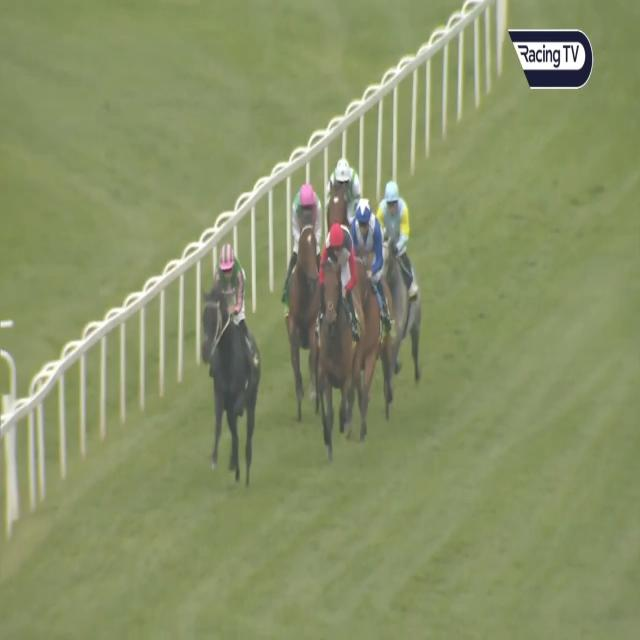horses-racing: (349, 197, 404, 414), (204, 246, 256, 459), (374, 179, 428, 371), (320, 221, 358, 443), (283, 182, 324, 374), (327, 156, 358, 228)
